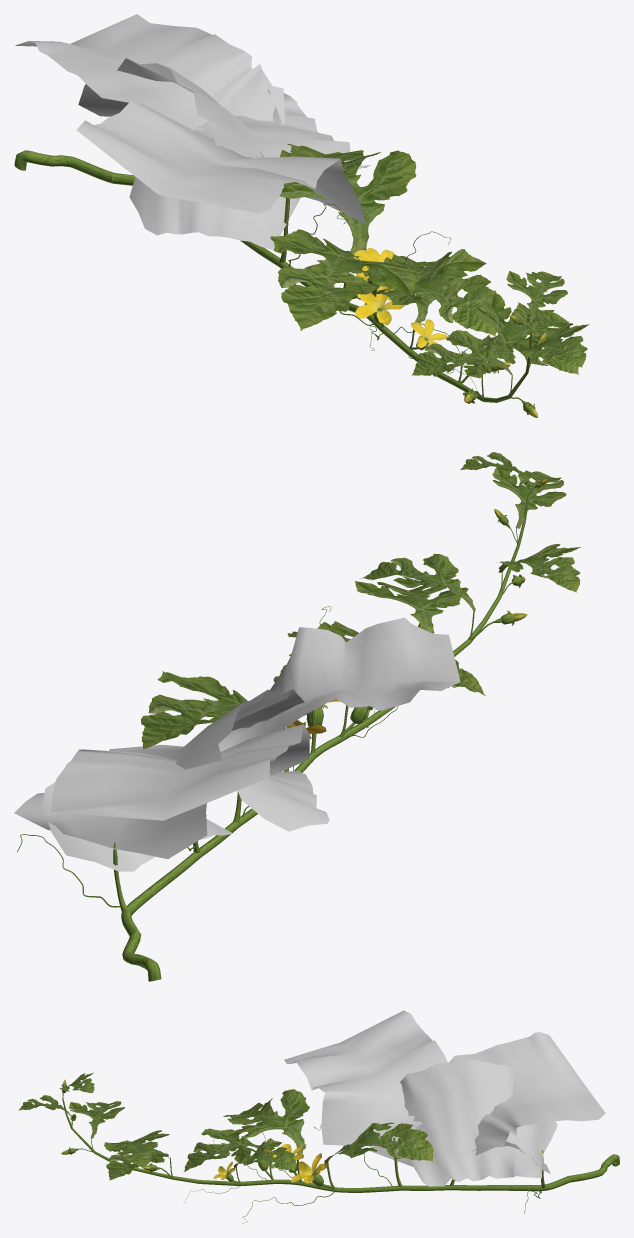
3 renders of one model, top to bottom at view 1: azimuth 30°, elevation 25°; view 2: azimuth 150°, elevation 25°; view 3: azimuth 270°, elevation 25°, orthographic. The views are drawn at different scales.
Visible parts, largest first — view 1: VG08_2; view 2: VG08_2; view 3: VG08_2.
Boxes of the visible parts, left/top/right/bottom form: VG08_2: left=14, top=14, right=589, bottom=417; VG08_2: left=14, top=452, right=580, bottom=981; VG08_2: left=18, top=1010, right=619, bottom=1223.
Bounding box in the file's own units: 0.491 × 0.282 × 1.17.
